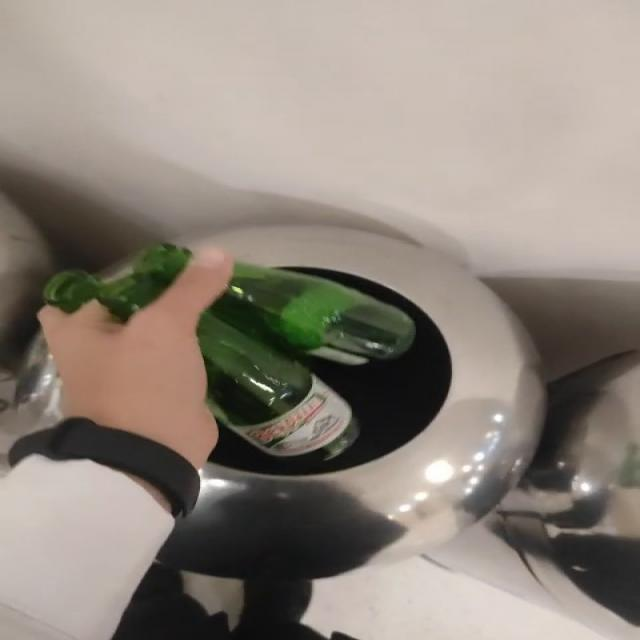glass: (196, 262, 416, 457), (45, 244, 188, 320)
